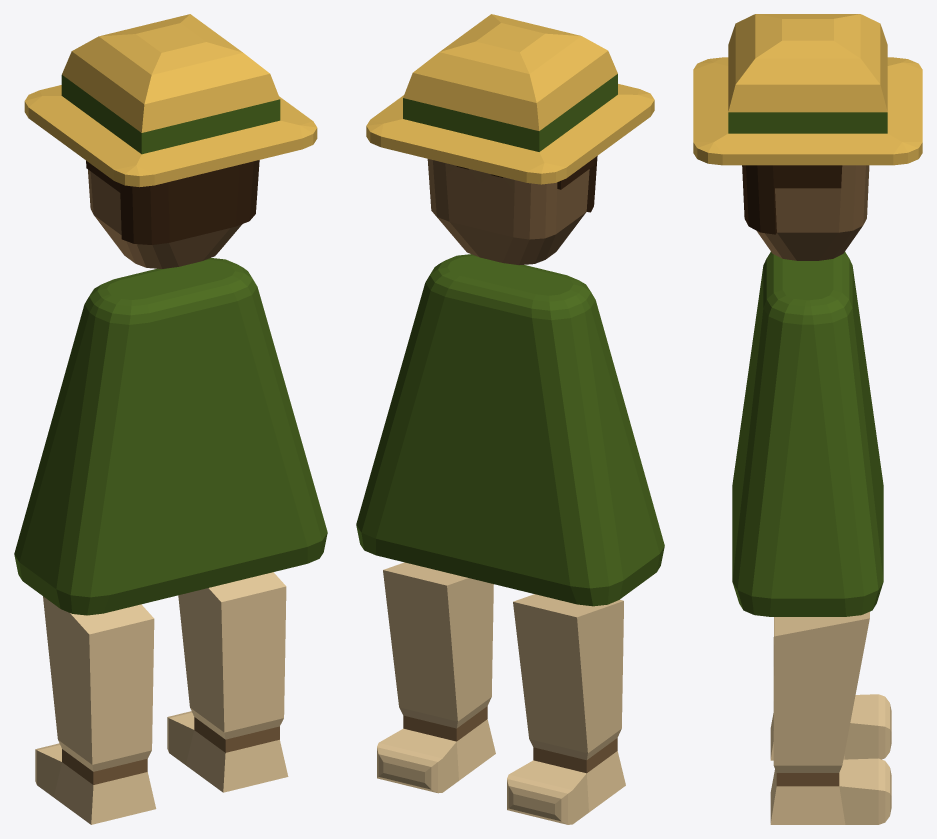
Rendered from PlayerBody.glb.
3 views of the same model, side by side, from view 1: azimuth 30°, elevation 25°; view 2: azimuth 150°, elevation 25°; view 3: azimuth 270°, elevation 25° (orthographic).
Visible parts, largest first — view 1: PlayerBody; view 2: PlayerBody; view 3: PlayerBody.
Part boxes in pixels (left/top/right/bottom): PlayerBody: left=14, top=14, right=327, bottom=824; PlayerBody: left=356, top=14, right=664, bottom=824; PlayerBody: left=693, top=14, right=922, bottom=824.
Bounding box in the file's own units: 0.654 × 1.76 × 0.4894.
